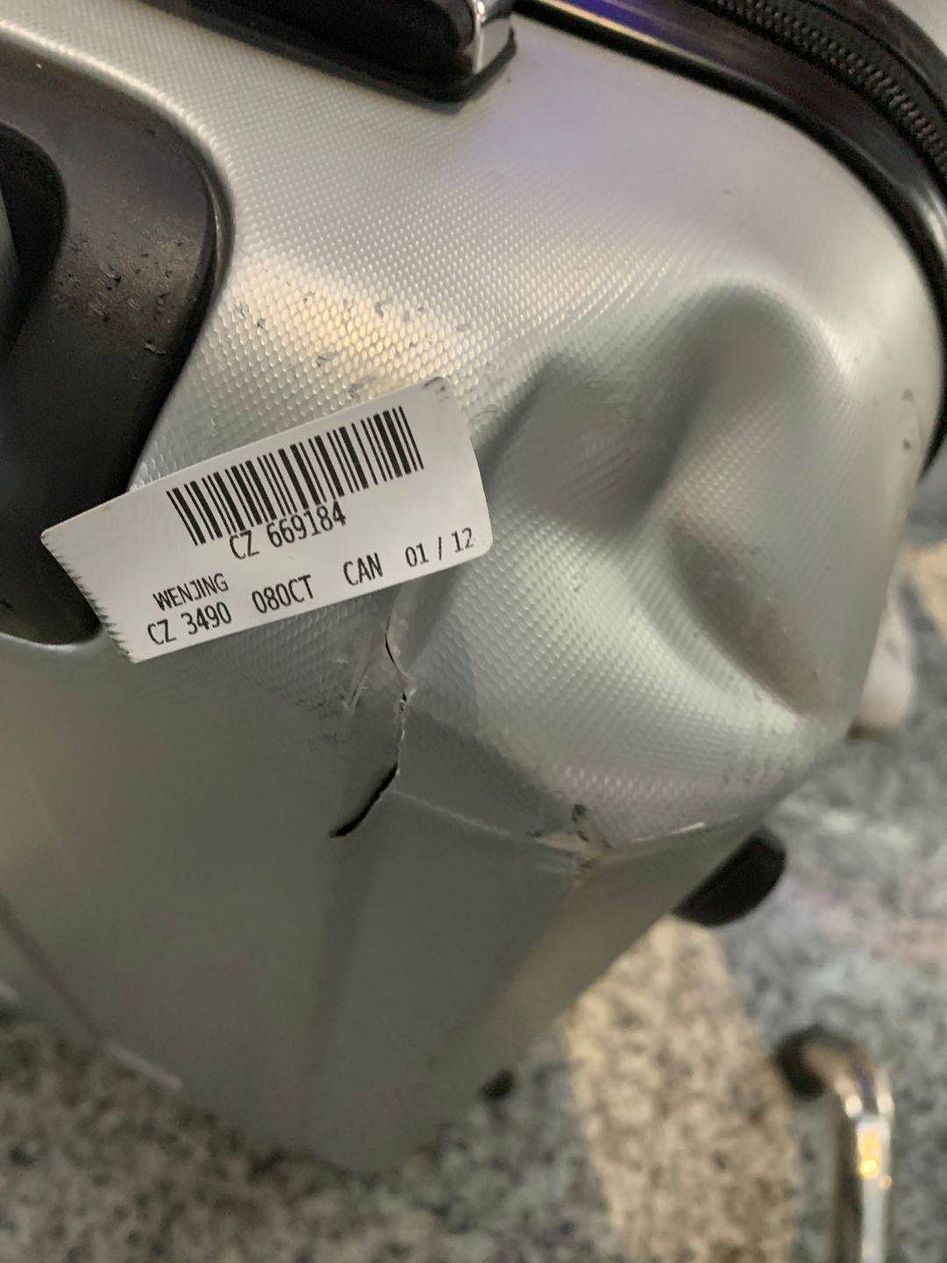rupture: (454, 286, 876, 799)
scratch: (324, 618, 415, 838)
